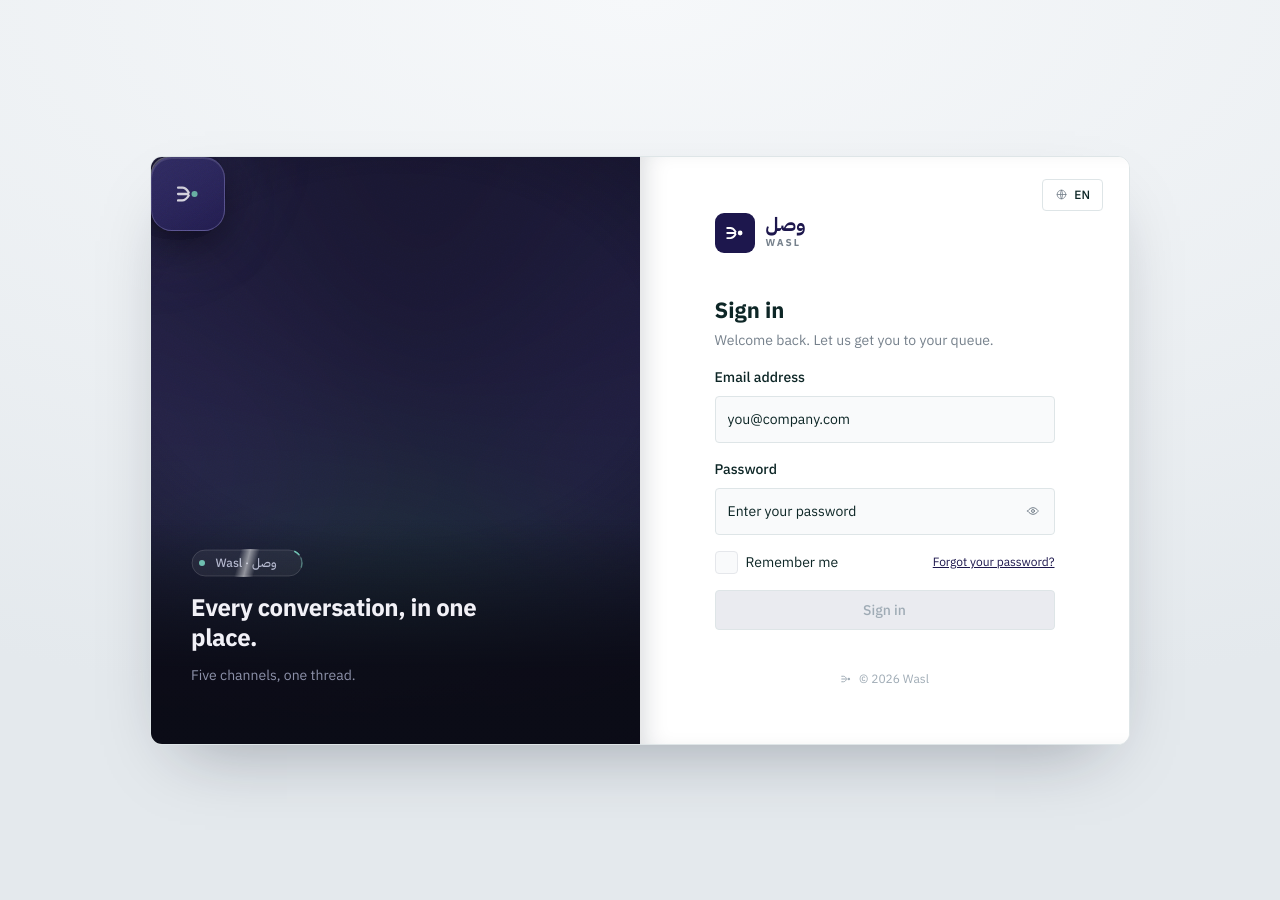
it: AC-27 — a 401 here is the form error, never a redirect › stays on /login and renders the failure
Type "manager@wasl.local" into the field labelled "Email address" at {"x": 884, "y": 419}, box [714,396,1054,442]
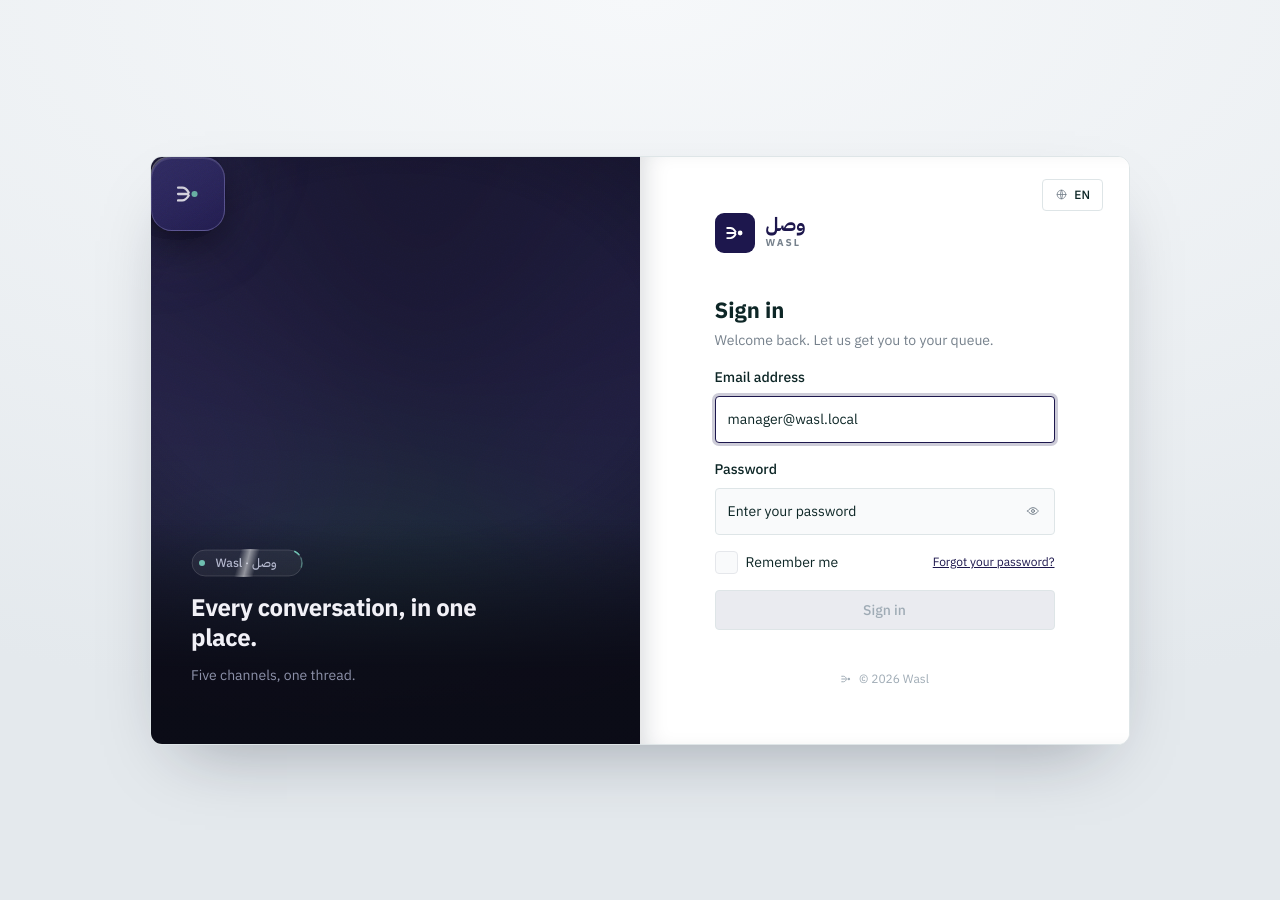
Type "wrong-password" into the password field named "password" at {"x": 884, "y": 511}, box [714,488,1054,534]
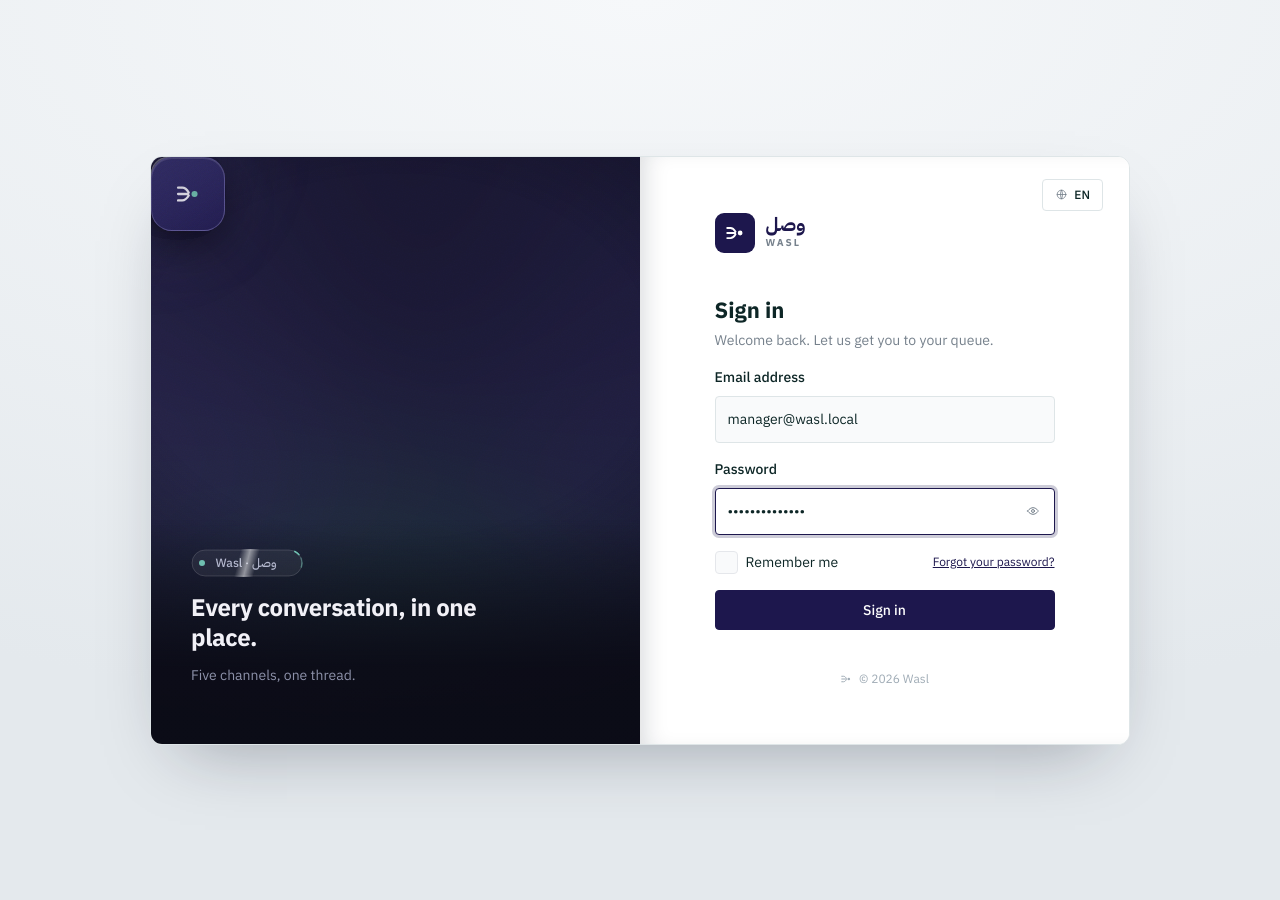
Click the button "Sign in" at {"x": 884, "y": 610}, box [714,590,1054,630]
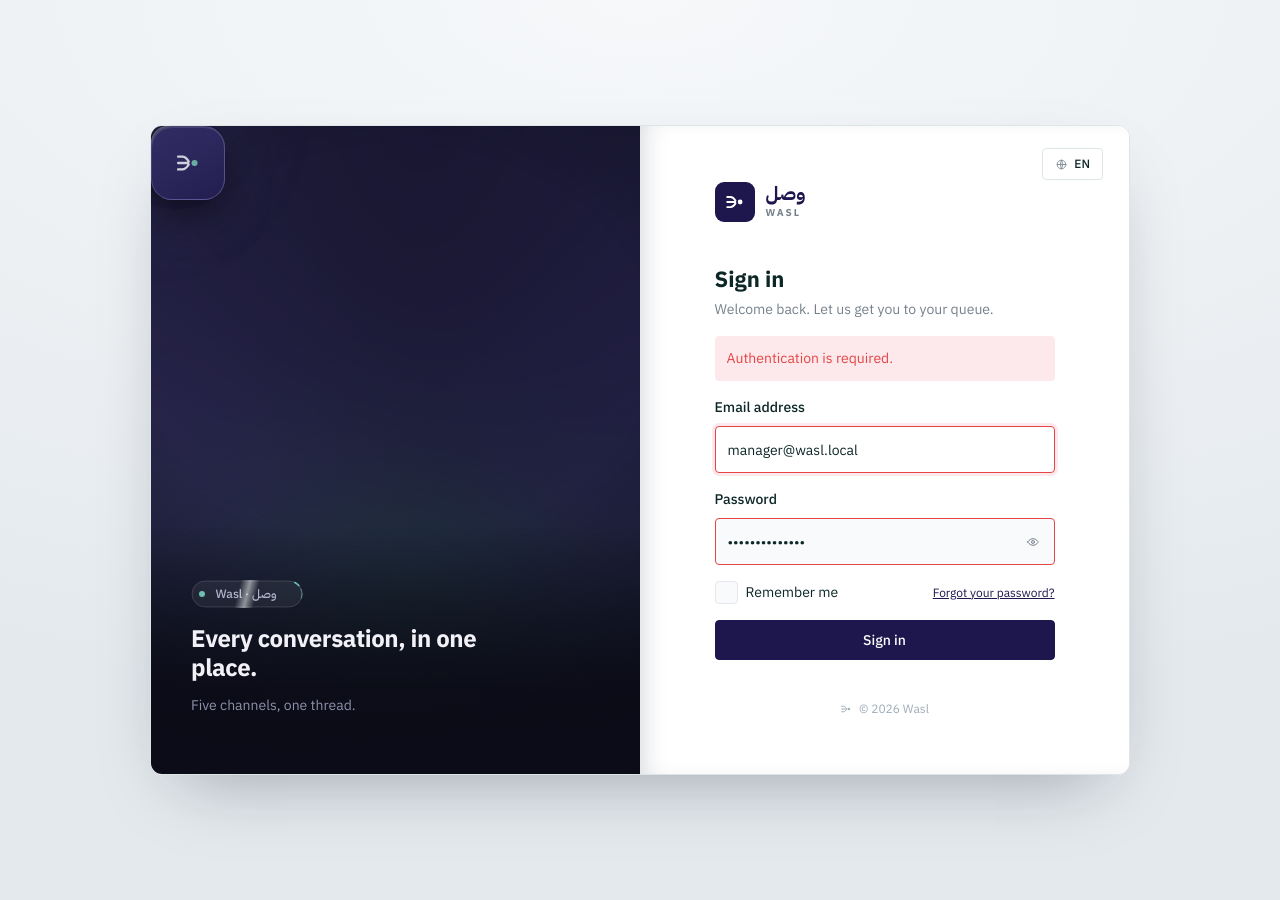
Result: the message "Authentication is required." is shown at [714,336,1054,381]
